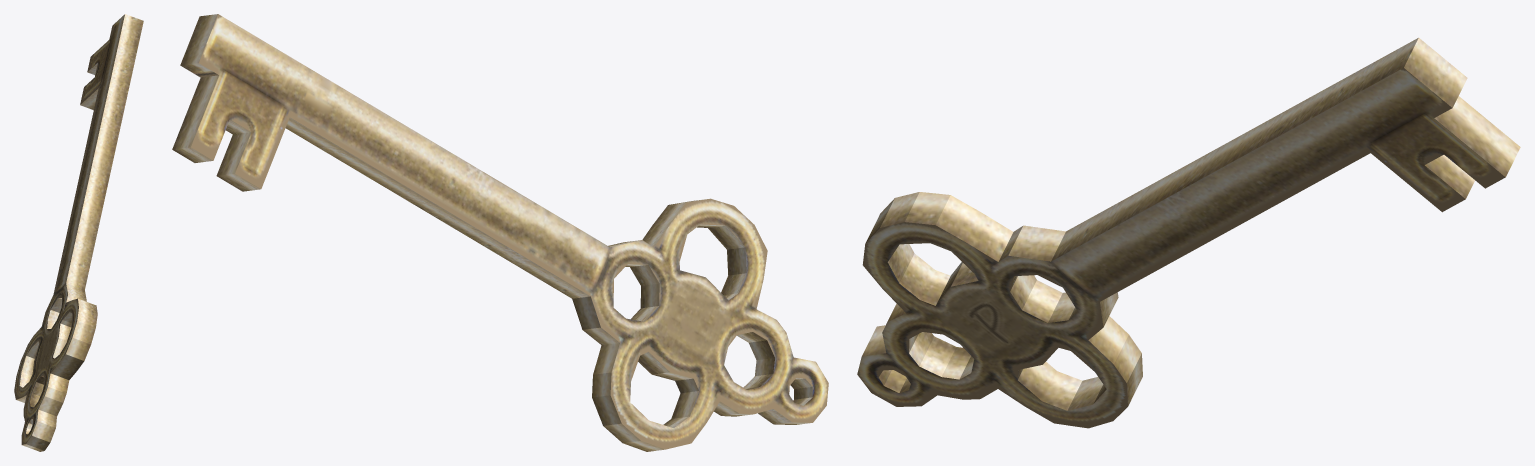
File: chave.FBX
3 views of the same model, side by side, from view 1: azimuth 30°, elevation 25°; view 2: azimuth 150°, elevation 25°; view 3: azimuth 270°, elevation 25° (orthographic). The views are drawn at different scales.
Parts seen in each view (by area): view 1: Box001; view 2: Box001; view 3: Box001.
Part boxes in pixels (x1,y1,x2,y2): Box001: (14,14,143,451); Box001: (172,14,828,451); Box001: (857,37,1520,428).
Size of the model in its own units: 1.59 by 1.78 by 1.85.
1 material, 1 textured.
